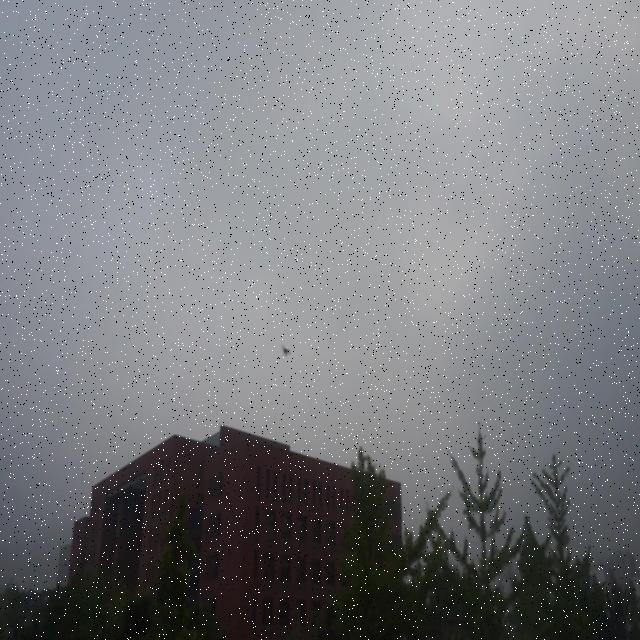UAV: (281, 344, 291, 356)
